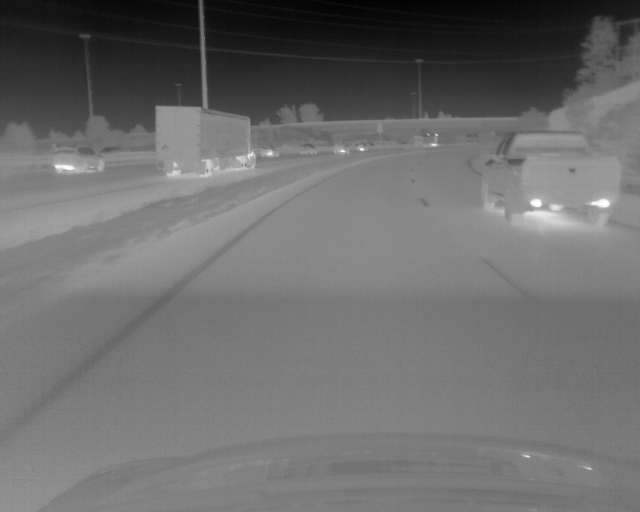car: (479, 131, 622, 228), (155, 105, 256, 178), (53, 145, 105, 174), (297, 144, 318, 156), (261, 146, 278, 158), (333, 142, 346, 156)
